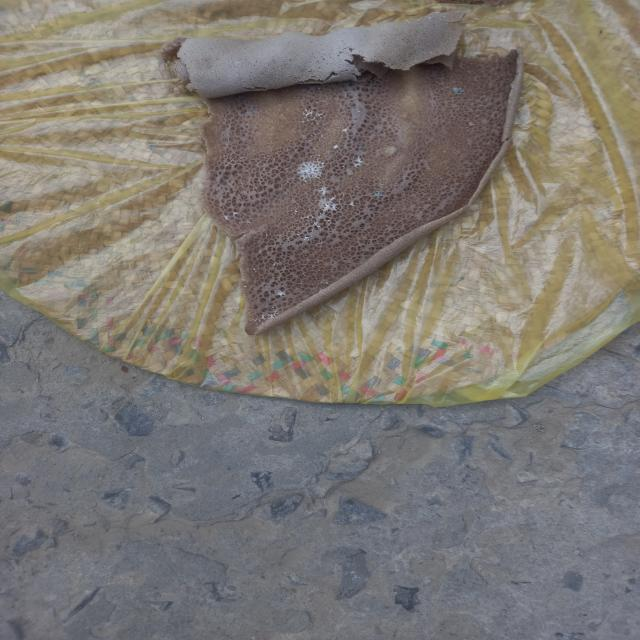injera_mold: (299, 159, 327, 185), (314, 196, 342, 214), (301, 107, 324, 124), (300, 213, 320, 229), (257, 310, 279, 323), (450, 84, 464, 98), (300, 232, 312, 244), (464, 118, 476, 130), (350, 157, 365, 166), (275, 288, 286, 300), (314, 188, 333, 194), (370, 189, 385, 196), (223, 213, 232, 223), (233, 60, 243, 66), (348, 200, 355, 208), (341, 128, 349, 134), (319, 280, 331, 284), (331, 145, 340, 150), (233, 210, 239, 216), (310, 155, 322, 158), (326, 219, 331, 226), (318, 241, 326, 245), (246, 220, 252, 225), (252, 267, 257, 273), (406, 19, 412, 24), (271, 262, 278, 266), (293, 210, 298, 215), (243, 285, 248, 290), (434, 11, 442, 14), (416, 19, 427, 21), (248, 107, 253, 111), (278, 113, 284, 116), (313, 148, 317, 152), (320, 134, 324, 138), (322, 236, 328, 238), (290, 230, 294, 233), (315, 101, 319, 104), (428, 17, 432, 20), (369, 28, 372, 32), (357, 110, 361, 113), (326, 113, 329, 117), (313, 132, 316, 136), (265, 234, 269, 236), (286, 90, 289, 92)
